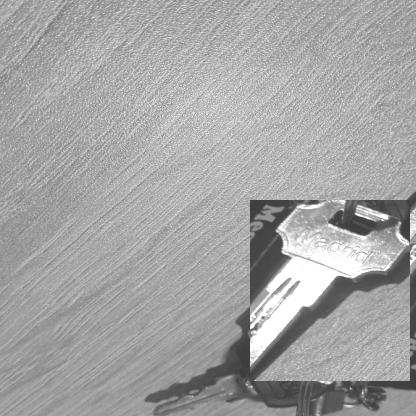key: (250, 200, 410, 381)
